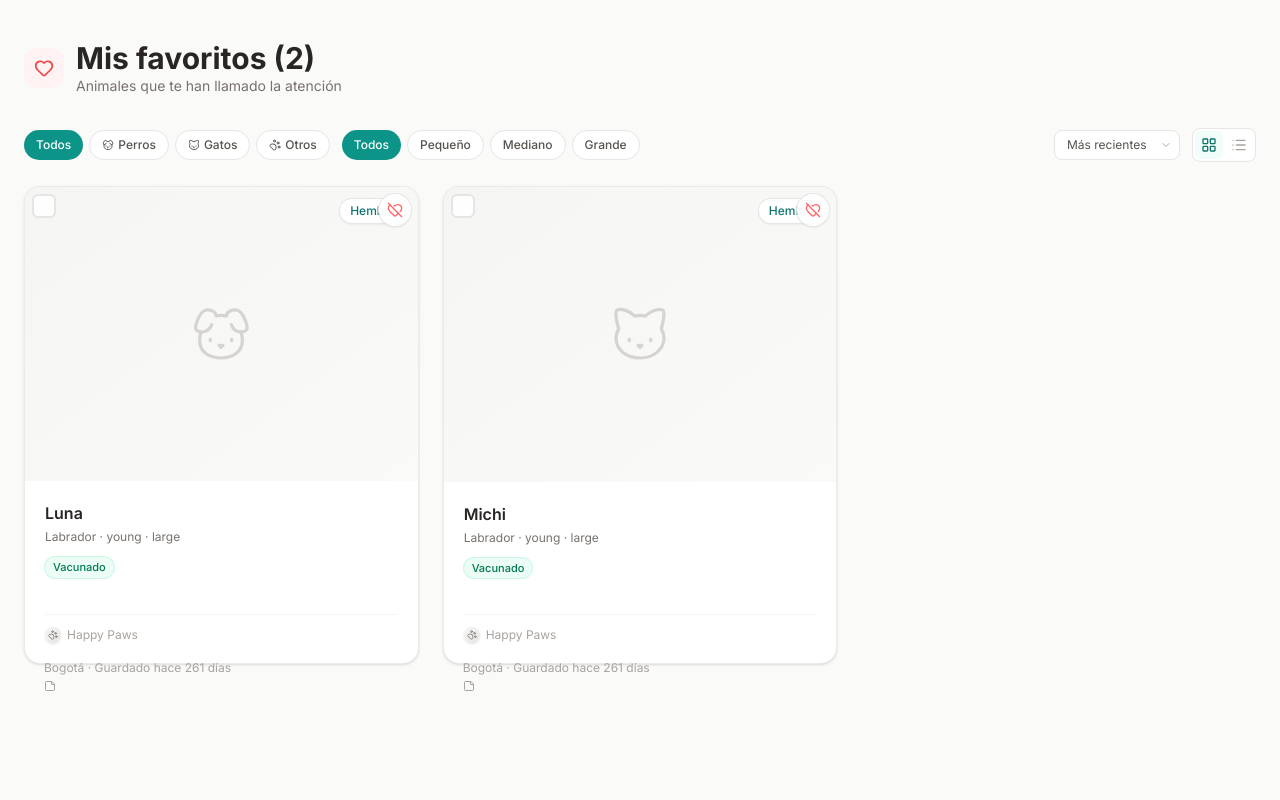
FavoritosPage › clears active filters when clear button is clicked
Click the button "Gatos": point(213, 145) [175, 130, 250, 160]
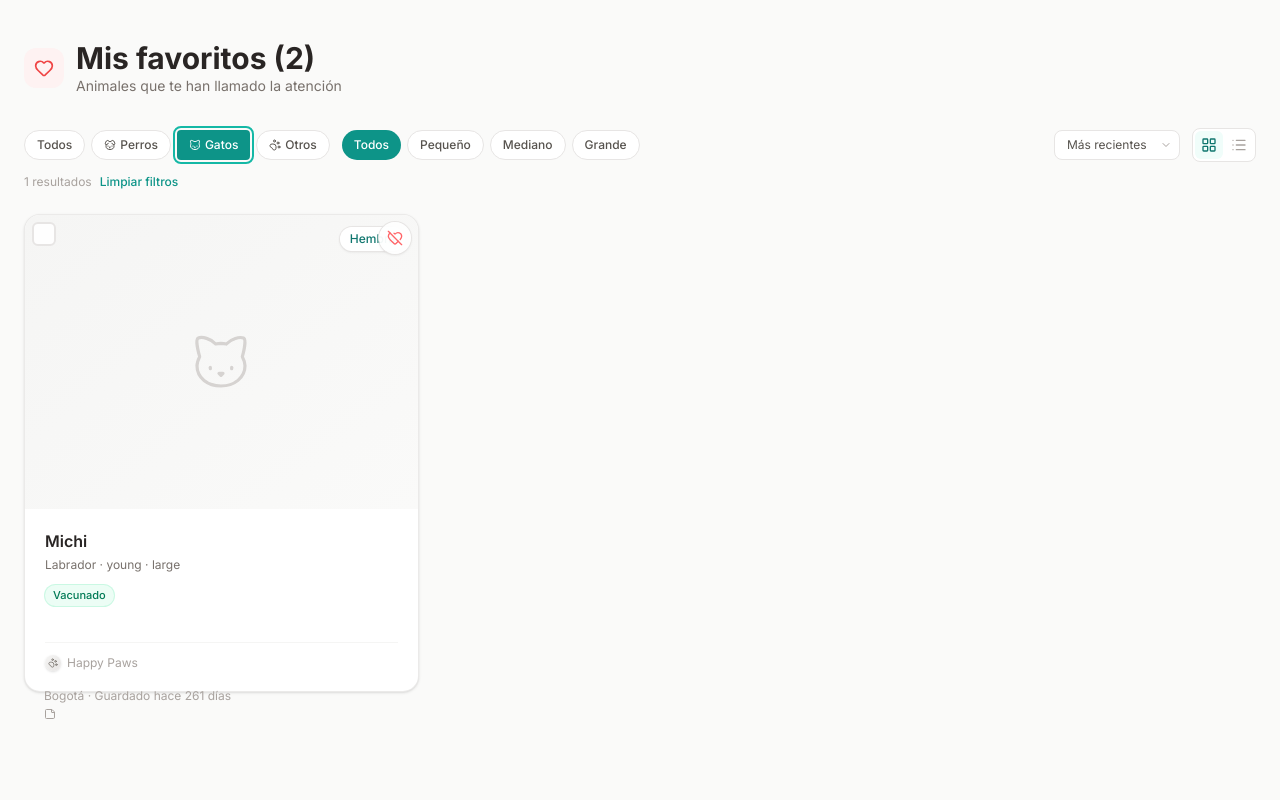
Expected: the link "Luna" is gone
Click the button "Limpiar filtros": point(139, 182) [100, 174, 178, 190]
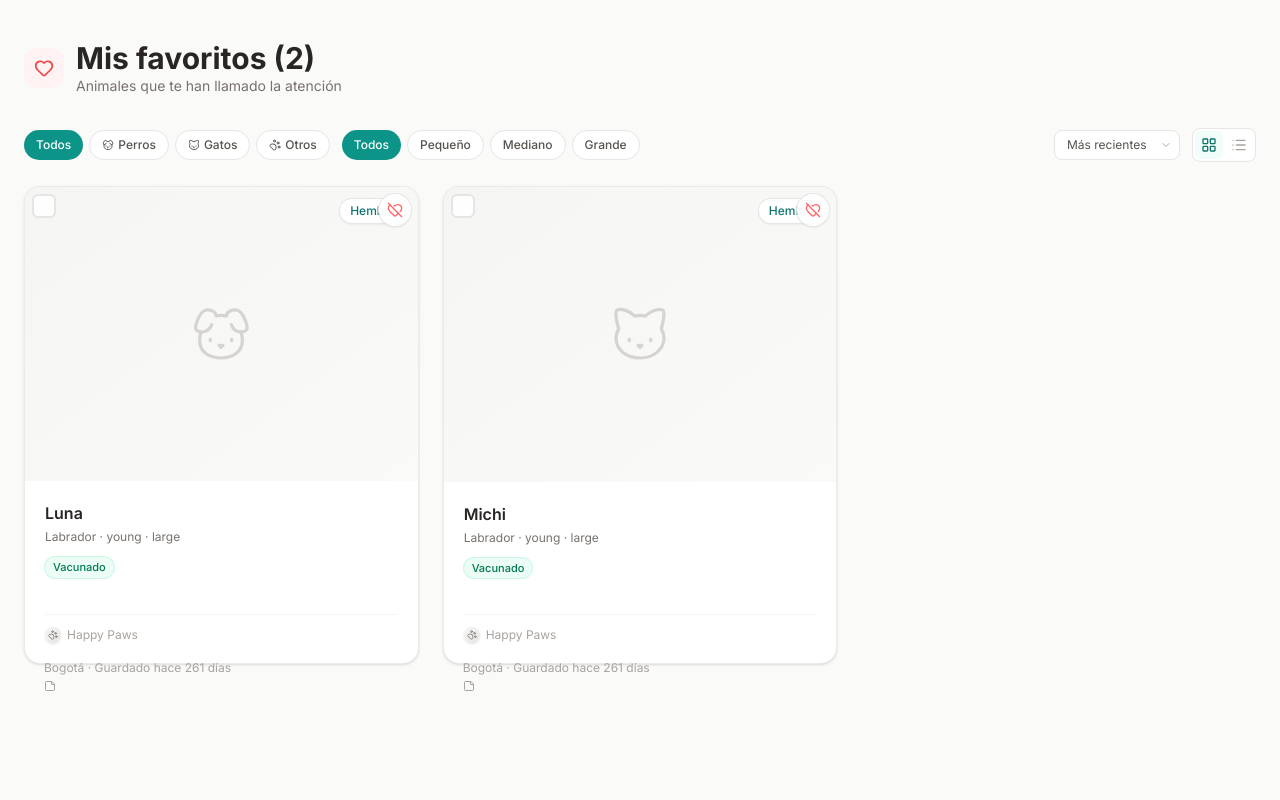
Expected: the heading "Michi" is shown, [464, 504, 506, 524]
Expected: the heading "Luna" is shown, [45, 504, 83, 524]
